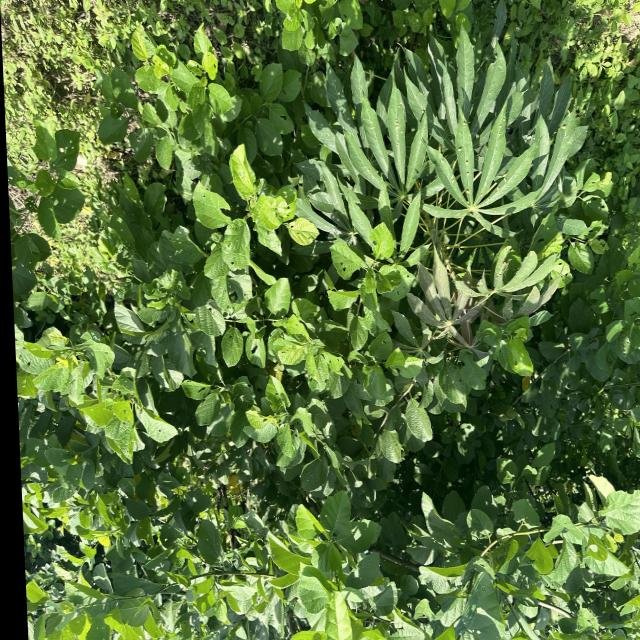Maleza: (133, 376, 400, 624), (350, 342, 620, 541), (347, 471, 640, 640), (71, 197, 282, 405), (11, 314, 205, 491), (48, 465, 229, 628), (120, 7, 298, 146), (102, 142, 317, 256), (285, 228, 406, 385), (24, 102, 91, 237), (240, 0, 376, 59)
Mosca: (459, 160, 475, 179), (462, 186, 476, 201), (454, 140, 464, 156), (421, 106, 431, 116), (557, 118, 565, 129), (462, 118, 471, 126)
